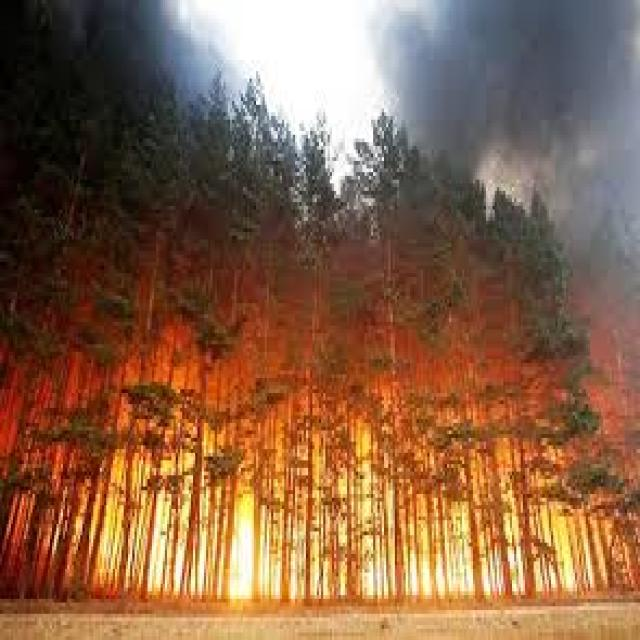Fire: (412, 549, 524, 600), (231, 514, 263, 597)
